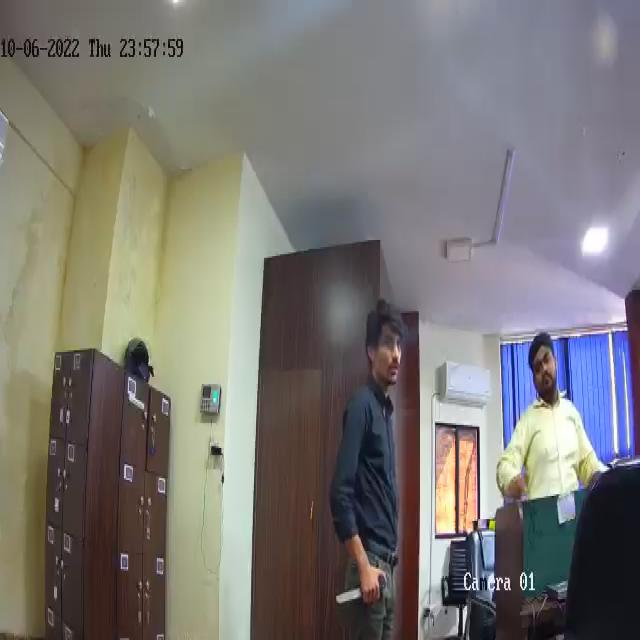weapon: (334, 567, 386, 615)
